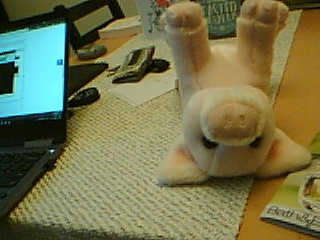piggy: (152, 1, 313, 189)
